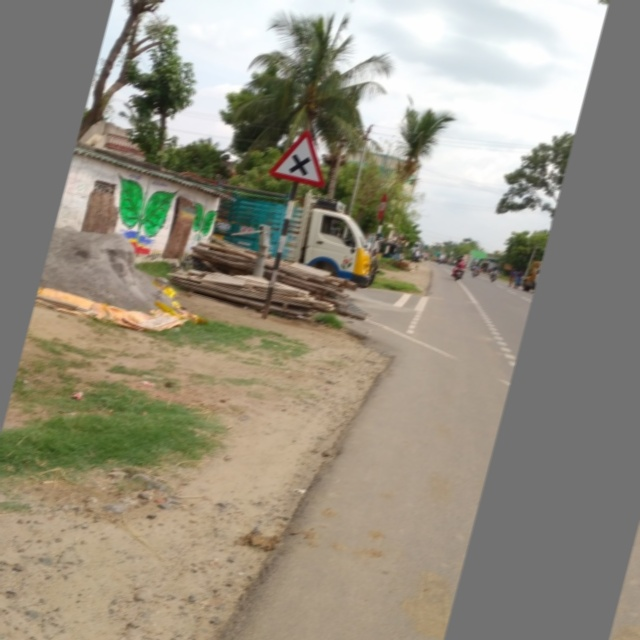Cross_Road: (264, 120, 339, 191)
